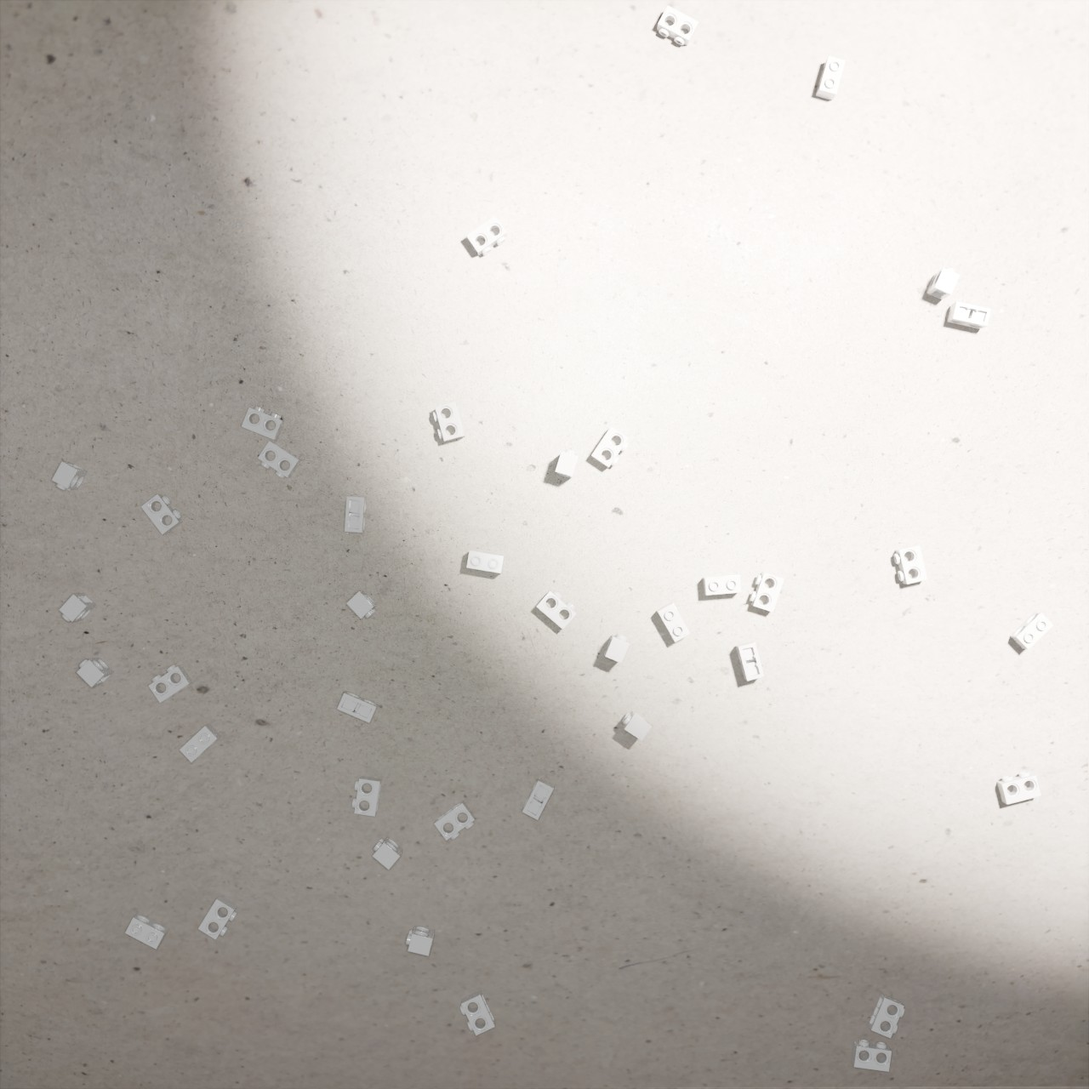lego: (198, 895, 238, 940), (148, 664, 193, 703), (867, 993, 905, 1039), (141, 494, 183, 535), (434, 800, 476, 841), (657, 5, 699, 46), (179, 723, 222, 763), (125, 912, 170, 950), (466, 215, 507, 256), (258, 440, 301, 479), (1010, 612, 1054, 650), (460, 990, 496, 1036), (536, 590, 577, 630), (591, 426, 629, 468), (241, 406, 285, 441), (997, 771, 1041, 805), (656, 602, 691, 642), (522, 777, 554, 820), (750, 572, 784, 612), (851, 1039, 892, 1072), (816, 56, 846, 101), (337, 691, 379, 723), (894, 545, 928, 584), (433, 401, 465, 442), (947, 301, 991, 329), (352, 776, 382, 817), (76, 657, 114, 688), (926, 267, 960, 300), (736, 641, 764, 681), (59, 593, 97, 622), (52, 461, 88, 491), (372, 836, 403, 870), (346, 590, 378, 619), (622, 711, 652, 741), (406, 925, 435, 956), (466, 550, 505, 573), (344, 496, 367, 533), (703, 574, 741, 595), (604, 633, 630, 663), (555, 449, 579, 478)
